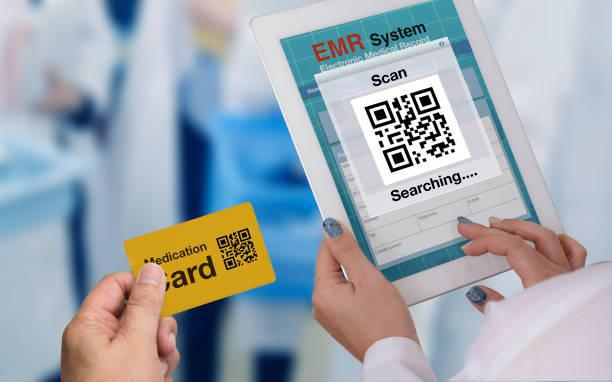Finder pattern: (361, 98, 397, 131), (380, 143, 415, 173), (408, 86, 442, 116), (236, 226, 253, 244), (214, 234, 232, 250), (223, 256, 239, 271)
